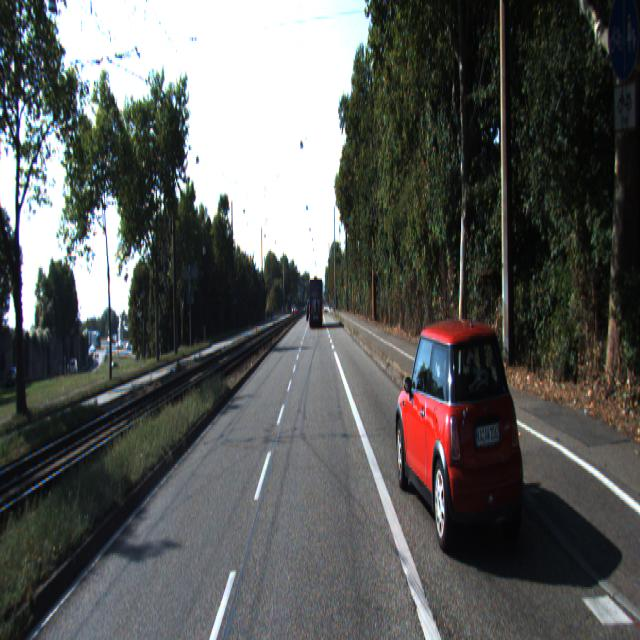Car: (394, 315, 530, 567), (309, 278, 323, 329)
